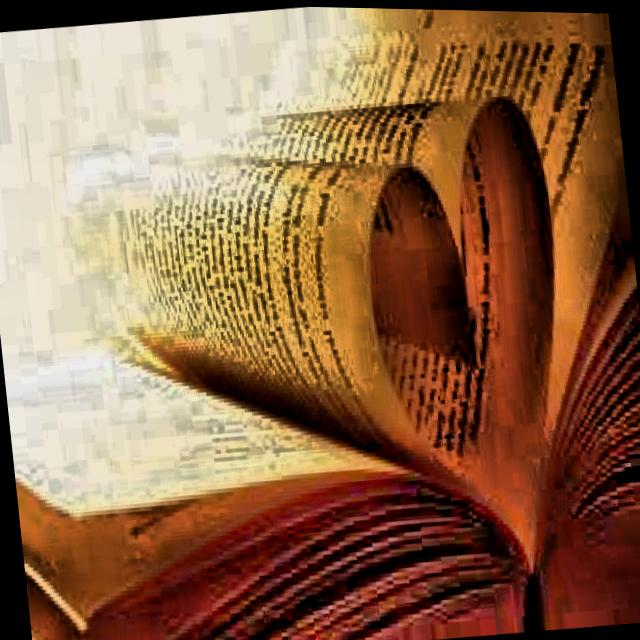Paper: (0, 0, 640, 640), (99, 75, 588, 600), (250, 4, 640, 524), (4, 328, 445, 528)
